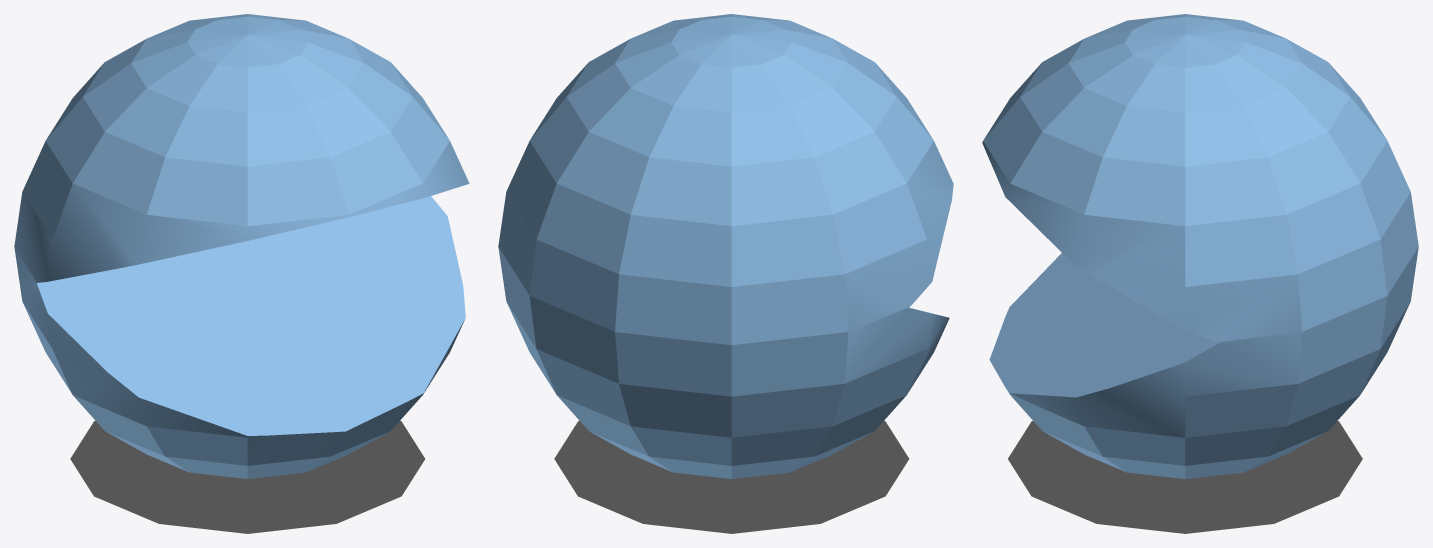
The model's file is EnemyBlue.fbx.
3 renders of one model, left to right at view 1: azimuth 30°, elevation 25°; view 2: azimuth 150°, elevation 25°; view 3: azimuth 270°, elevation 25°, orthographic.
Visible parts, largest first — view 1: pSphere2, pCylinder1; view 2: pSphere2, pCylinder1; view 3: pSphere2, pCylinder1.
Boxes of the visible parts, x1,y1,x2,y2 form: pSphere2: (14,14,469,478); pCylinder1: (70,421,424,533); pSphere2: (498,14,953,478); pCylinder1: (554,421,908,533); pSphere2: (982,14,1418,478); pCylinder1: (1008,421,1362,533).
Size of the model in its own units: 0.5949 by 0.6011 by 0.561.
